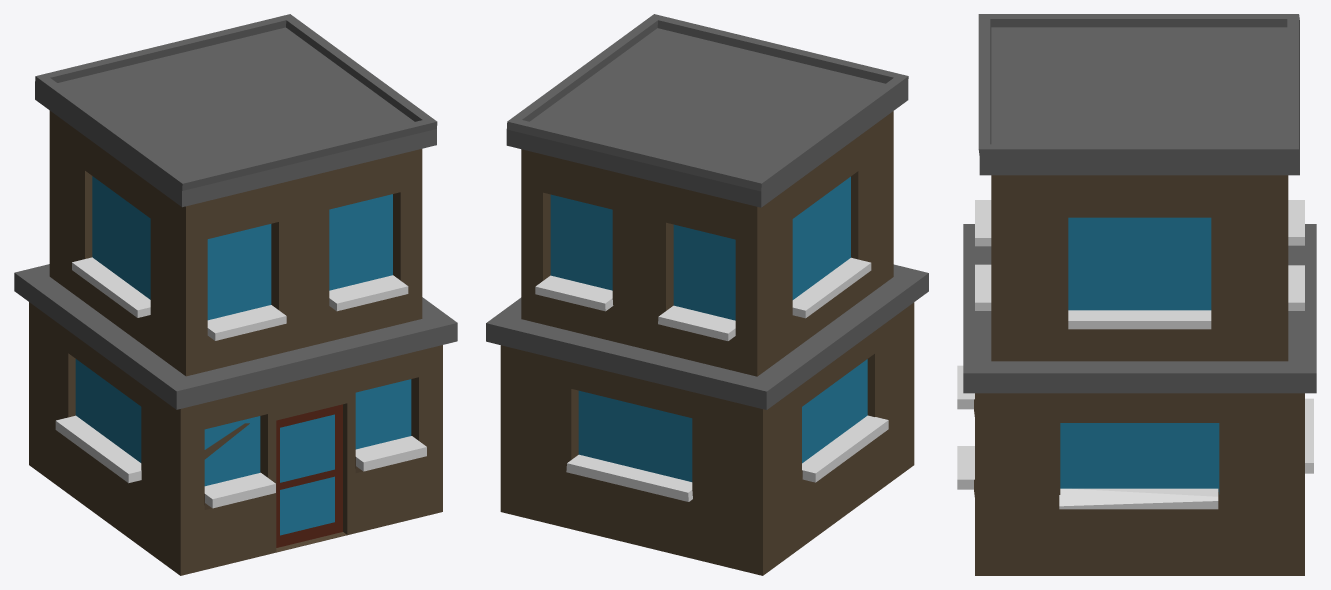
File: D_kamieniczka.fbx
The picture shows the model from 3 angles, left to right: view 1: azimuth 30°, elevation 25°; view 2: azimuth 150°, elevation 25°; view 3: azimuth 270°, elevation 25°; orthographic projection. The views are drawn at different scales.
Parts seen in each view (by area): view 1: kamieniczka.002, kamieniczka.001, kamieniczka.013, kamieniczka.028, kamieniczka.019, kamieniczka.015, kamieniczka.036, kamieniczka.003, kamieniczka.011, kamieniczka.033, kamieniczka.023, kamieniczka.014 (+12 smaller); view 2: kamieniczka.019, kamieniczka.001, kamieniczka.011, kamieniczka.007, kamieniczka.005, kamieniczka.028, kamieniczka.004, kamieniczka.014, kamieniczka.036, kamieniczka.006, kamieniczka.033, kamieniczka.029 (+14 smaller); view 3: kamieniczka.008, kamieniczka.001, kamieniczka.028, kamieniczka.039, kamieniczka.009, kamieniczka.025, kamieniczka.003, kamieniczka.019, kamieniczka.007, kamieniczka.034, kamieniczka.012, kamieniczka.013 (+6 smaller).
Part boxes in pixels (x1,y1,x2,y2): kamieniczka.002: (111, 423, 442, 575); kamieniczka.001: (51, 76, 293, 221); kamieniczka.013: (182, 220, 422, 386); kamieniczka.028: (262, 59, 437, 211); kamieniczka.019: (35, 14, 294, 201); kamieniczka.015: (194, 191, 422, 341); kamieniczka.036: (109, 201, 261, 345); kamieniczka.003: (250, 366, 442, 440); kamieniczka.011: (14, 242, 149, 399); kamieniczka.033: (29, 304, 150, 462); kamieniczka.023: (152, 361, 318, 426); kamieniczka.014: (49, 190, 138, 302); kamieniczka.019: (506, 102, 801, 263); kamieniczka.001: (619, 49, 908, 225); kamieniczka.011: (591, 260, 882, 415); kamieniczka.007: (486, 275, 667, 426); kamieniczka.005: (500, 456, 875, 567); kamieniczka.028: (570, 14, 797, 102); kamieniczka.004: (668, 415, 834, 495); kamieniczka.014: (630, 264, 850, 341); kamieniczka.036: (802, 122, 893, 267); kamieniczka.006: (681, 485, 818, 575); kamieniczka.033: (748, 335, 884, 468); kamieniczka.029: (561, 416, 843, 493); kamieniczka.008: (975, 439, 1313, 575); kamieniczka.001: (978, 14, 1264, 127); kamieniczka.028: (978, 73, 1177, 241); kamieniczka.039: (1083, 127, 1299, 250); kamieniczka.009: (1012, 388, 1304, 496); kamieniczka.025: (1005, 250, 1273, 361); kamieniczka.003: (975, 362, 1178, 497); kamieniczka.019: (1179, 14, 1299, 156); kamieniczka.007: (1179, 298, 1316, 430); kamieniczka.034: (1097, 269, 1304, 387); kamieniczka.012: (963, 331, 1108, 417); kamieniczka.013: (963, 212, 1073, 330).
Bounding box in the file's own units: 396 × 511 × 392.
